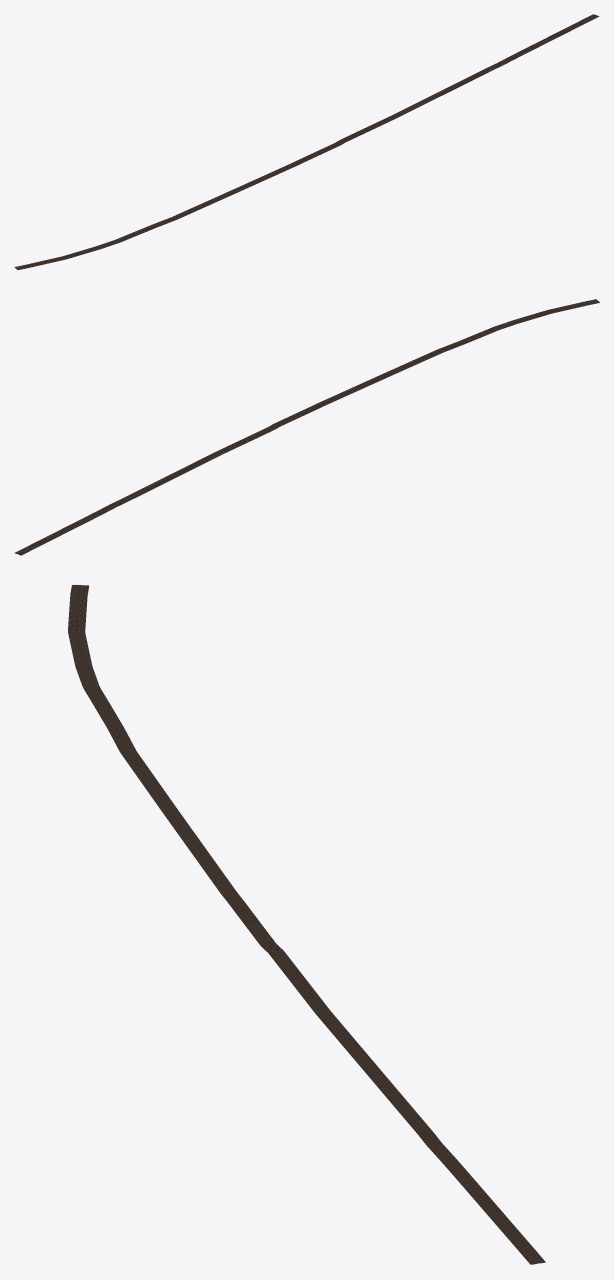
Rendered from kobe_0033.glb.
3 renders of one model, top to bottom at view 1: azimuth 30°, elevation 25°; view 2: azimuth 210°, elevation 25°; view 3: azimuth 270°, elevation 25°, orthographic. The views are drawn at different scales.
Visible parts, largest first — view 1: ballast_top, oxidised_rail_profiles; view 2: ballast_top, oxidised_rail_profiles, ballast_left; view 3: ballast_top, oxidised_rail_profiles.
Boxes of the visible parts, box(x1,y1,x2,y2) form: ballast_top: box(14, 14, 599, 269); oxidised_rail_profiles: box(15, 14, 598, 269); ballast_top: box(15, 299, 599, 554); oxidised_rail_profiles: box(15, 299, 598, 554); ballast_left: box(20, 302, 599, 555); ballast_top: box(68, 585, 545, 1264); oxidised_rail_profiles: box(70, 584, 543, 1263).
Bounding box in the file's own units: 724 × 0.819 × 216.
Materials: 4 (3 with a texture image).
